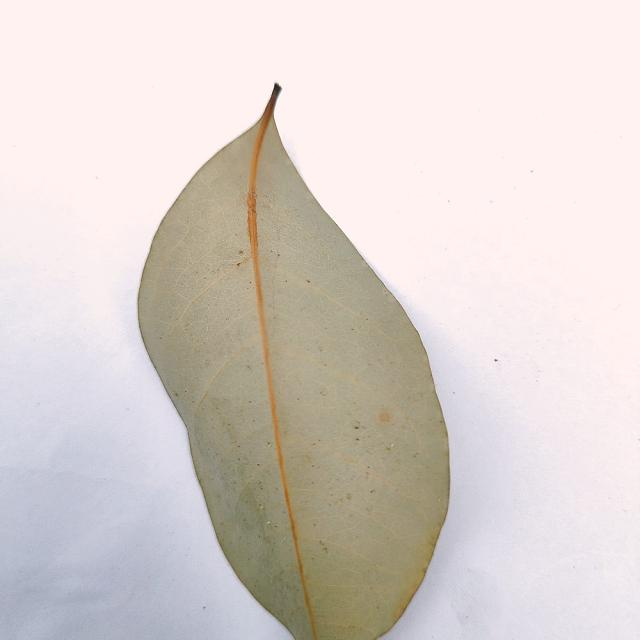Dry_Leaf-Lychee: (136, 86, 452, 639)
